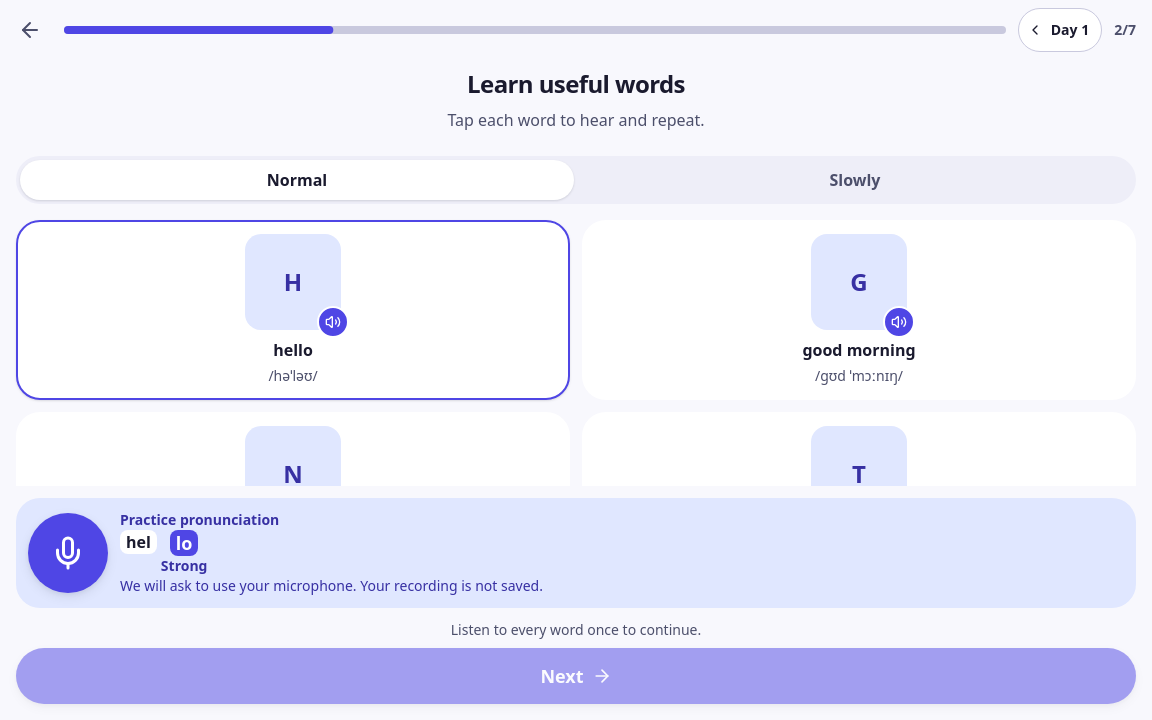
Scenario: Day 2: Learn useful words › practising the pronunciation › having the recording checked › shows what was done beside what to do: the parts as beats, and where the stress fell
Click the button named "Tap to speak" at coordinates (68, 553), box [28,513,108,593]
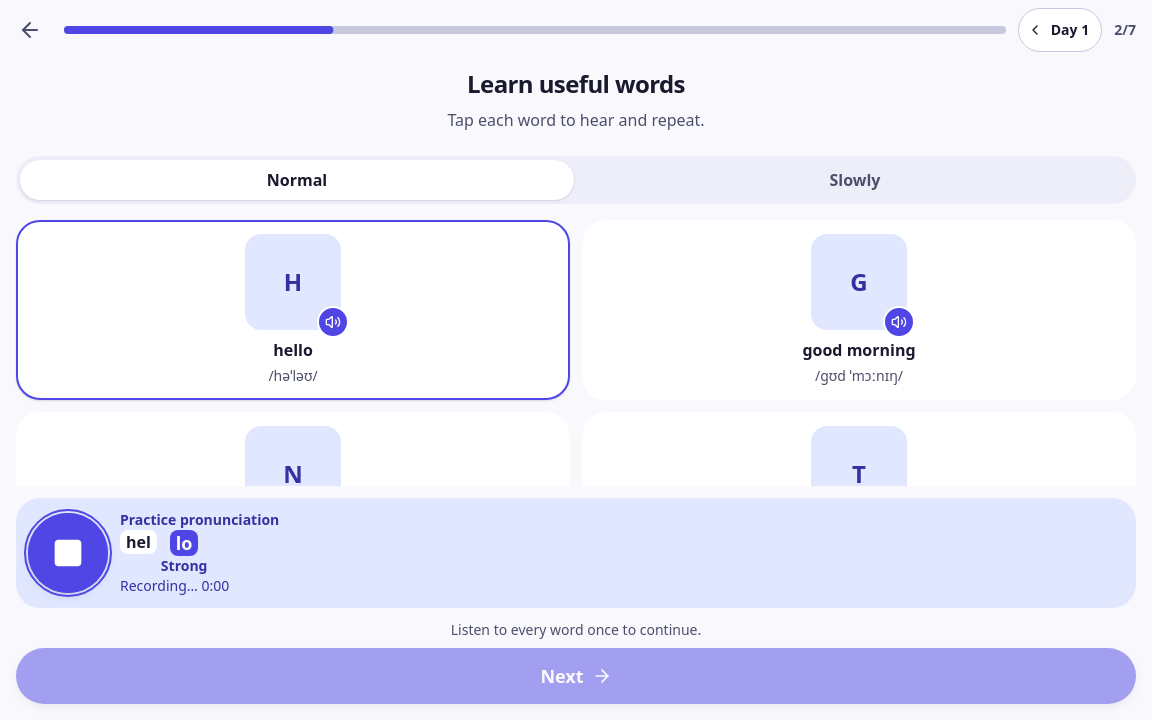
expect the text "Recording… 0:00" is shown: met, box [120,576,229,595]
Click the button named "Stop recording" at coordinates (68, 553), box [28,513,108,593]
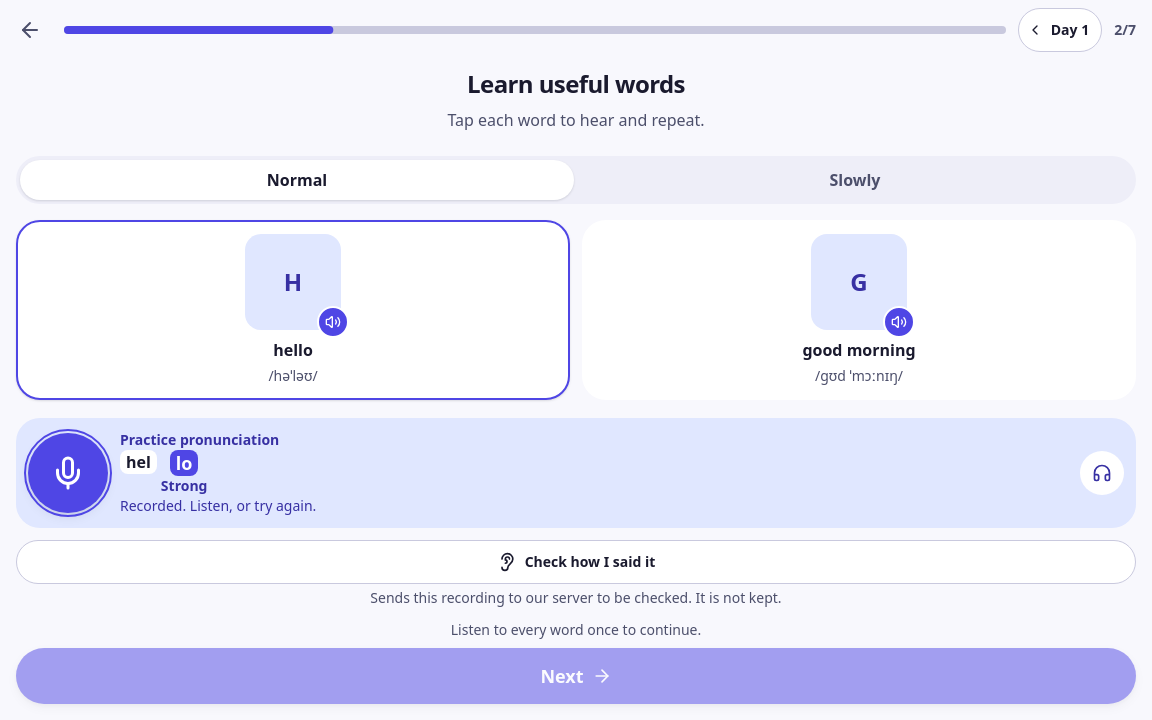
expect the text "Recorded. Listen, or try again." is shown: met, box [120,496,316,515]
Click the button "Check how I said it" at coordinates (576, 562), box [16,540,1136,584]
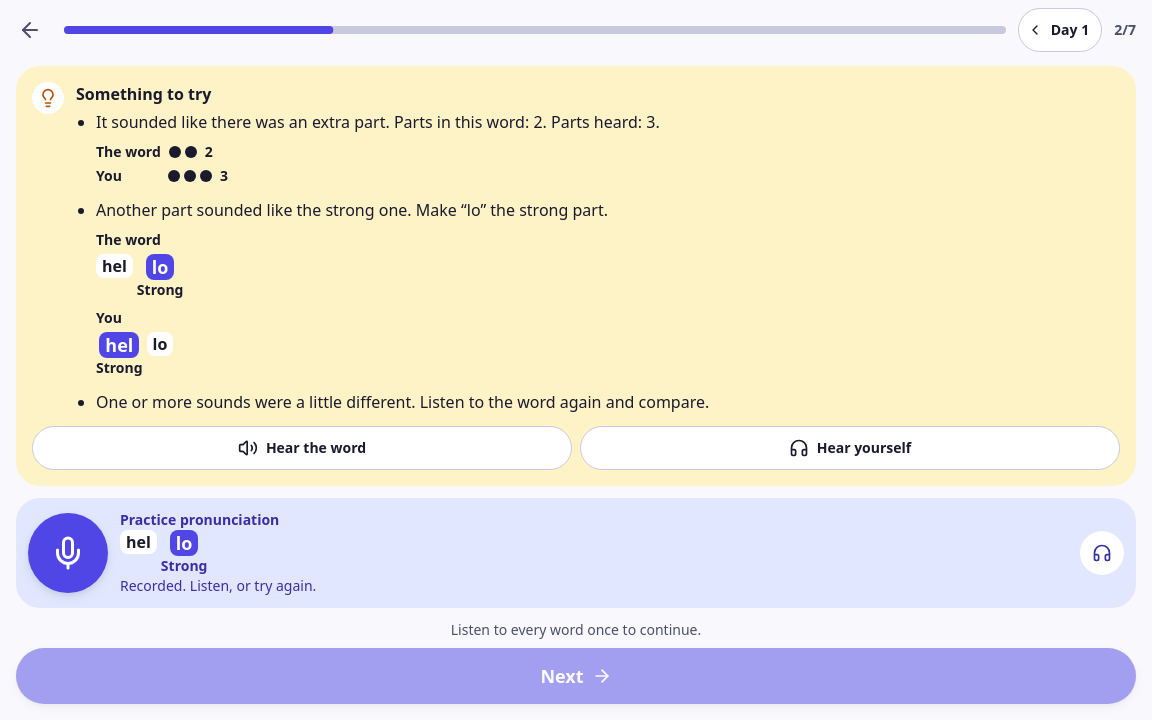
expect the picture named "The word: 2" is shown: met, box [96,142,213,161]
expect the picture named "You: 3" is shown: met, box [96,166,228,185]
